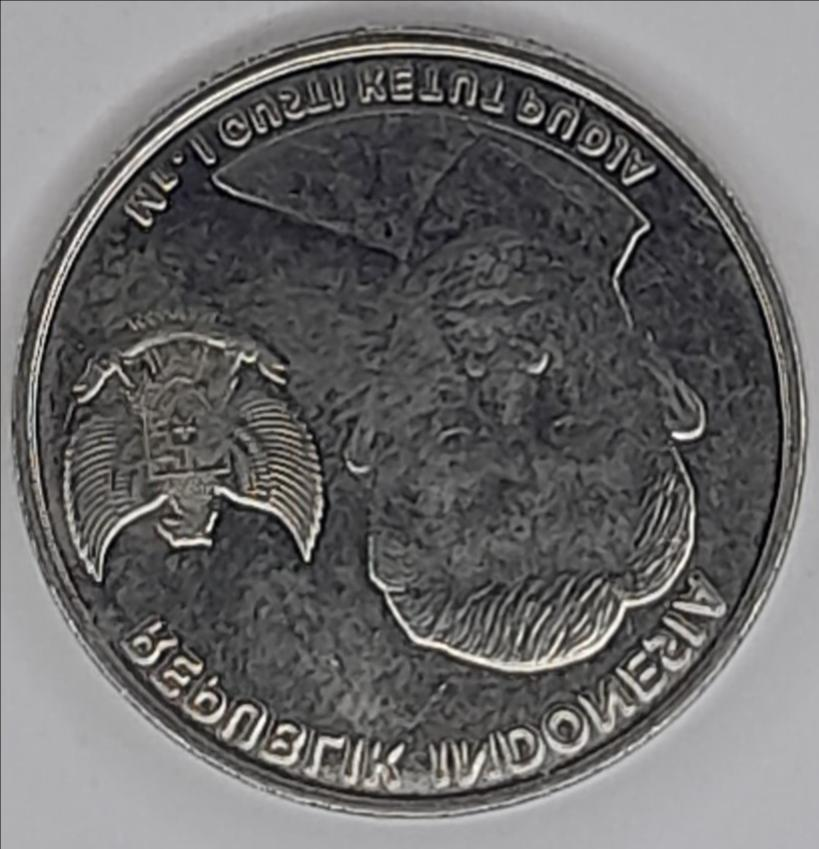coin_1000_e2016: (14, 17, 808, 849)
